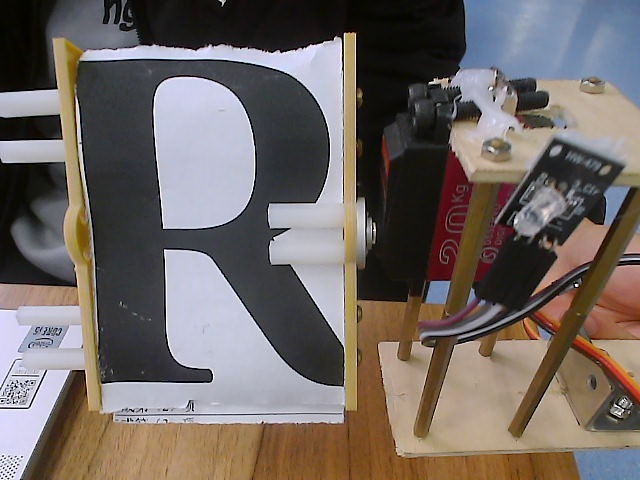R: (11, 23, 384, 452)
